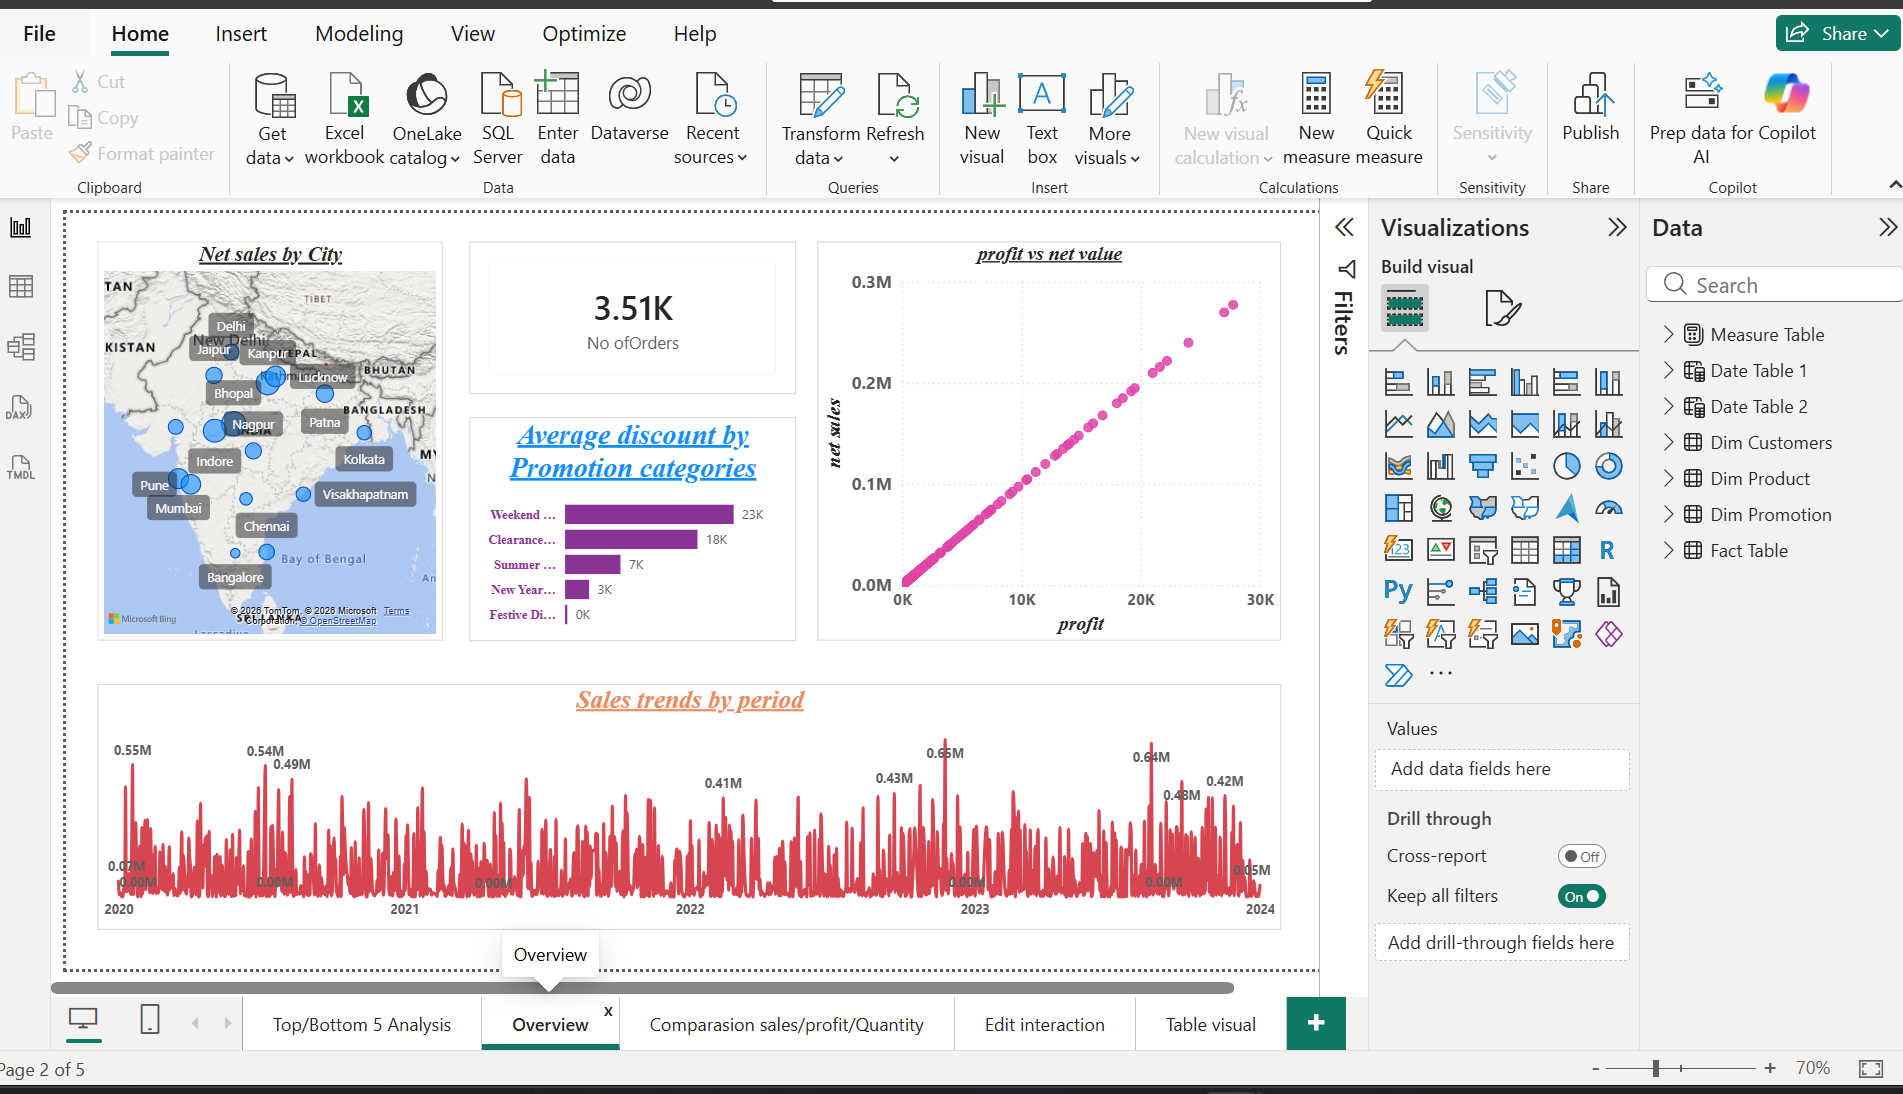

This screenshot's page, from the dashboard's own definition file:
{"tool":"powerbi","page":{"name":"Overview","canvas":[1280,720],"ordinal":1},"visuals":[{"type":"lineChart","title":"Sales trends by period","fields":{"Category":["Fact Table.Date (dd/mm/yyyy).Variation.Date Hierarchy.Year"],"Y":["Sum(Fact Table.net value)"]},"box":[30,448.6,1127.1,234.3],"z":0},{"type":"scatterChart","title":"profit vs net value","fields":{"X":["Fact Table.profit"],"Y":["Sum(Fact Table.net value)"]},"box":[715.7,27.1,441.4,380],"z":1000},{"type":"barChart","title":"Average discount by Promotion categories","fields":{"Y":["Avg(Fact Table.discount)"],"Category":["Dim Promotion.Promotion Name"]},"box":[384.6,193.8,310.4,213.5],"z":2000},{"type":"map","title":"Net sales by City","fields":{"Category":["Dim Customers.City"],"Size":["Sum(Fact Table.net sales)"]},"box":[30.3,27.3,328.6,380.1],"z":3000},{"type":"cardVisual","fields":{"Data":["Count(Fact Table.Order id)"]},"box":[384.6,27.3,310.4,145.4],"z":4000}]}

Visuals, with their boxes on the page's 1280x720 design canvas (x1, y1, x2, y2). These are canvas units, not pixel positions in the 1903x1094 screenshot, which may show the page scaled, cropped or inside an application window:
"Sales trends by period" lineChart: bbox(30, 449, 1157, 683)
"profit vs net value" scatterChart: bbox(716, 27, 1157, 407)
"Average discount by Promotion categories" barChart: bbox(385, 194, 695, 407)
"Net sales by City" map: bbox(30, 27, 359, 407)
cardVisual - Count(Fact Table.Order id): bbox(385, 27, 695, 173)
